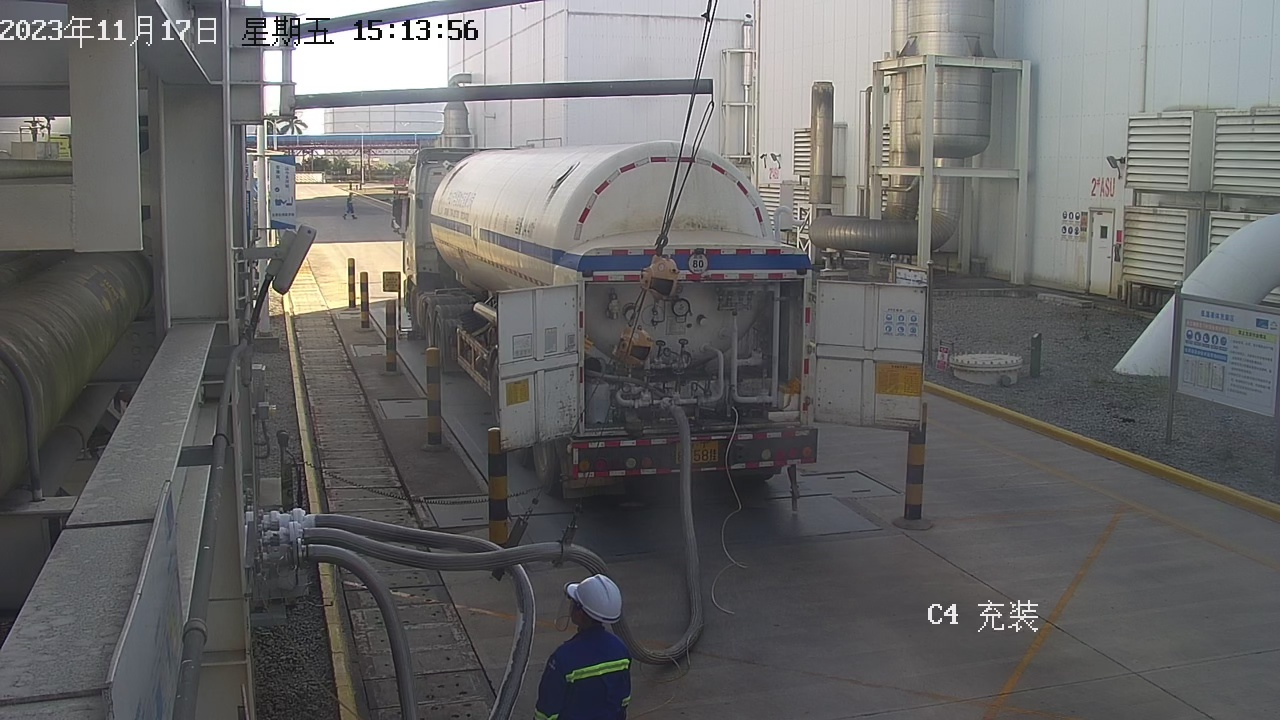Head_with_Helmet: (539, 560, 634, 639), (346, 191, 356, 200)
Uniform: (508, 614, 664, 720), (340, 197, 360, 221)
